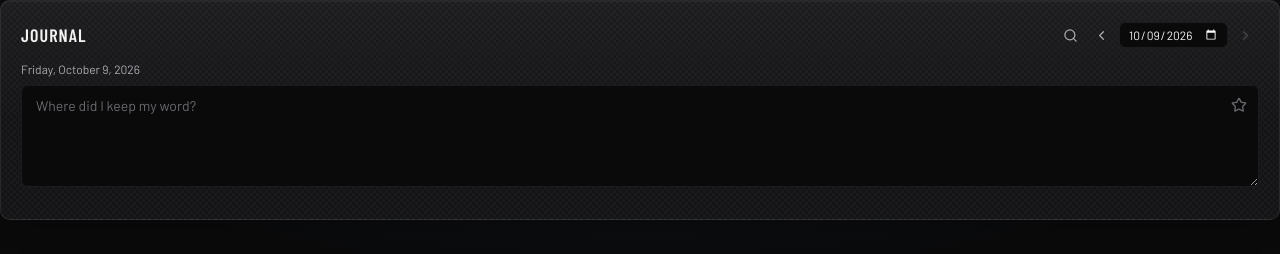
it: Journal autosave › coalesces writes: many keystrokes, few saves, and settles on Saved
Type "Kept my word today." into the text box named "Journal entry for" at [640, 136], box [21,85,1259,187]
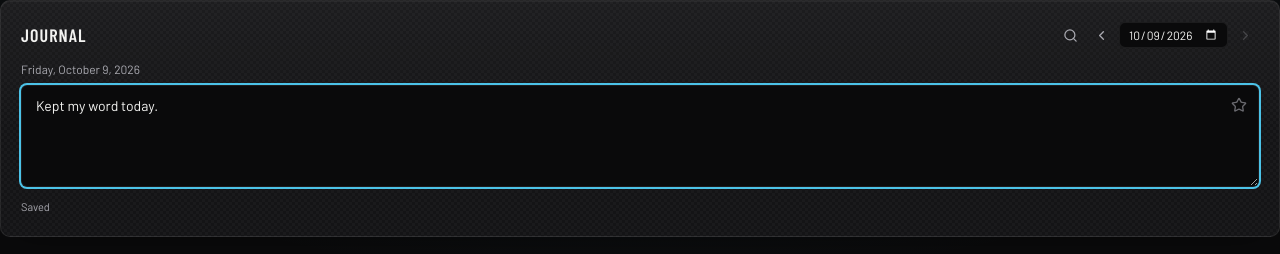
Result: the message reads "Saved" at [21,200,50,213]
